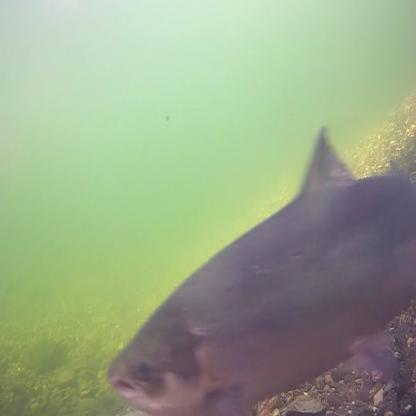salmon: (100, 112, 416, 415)
